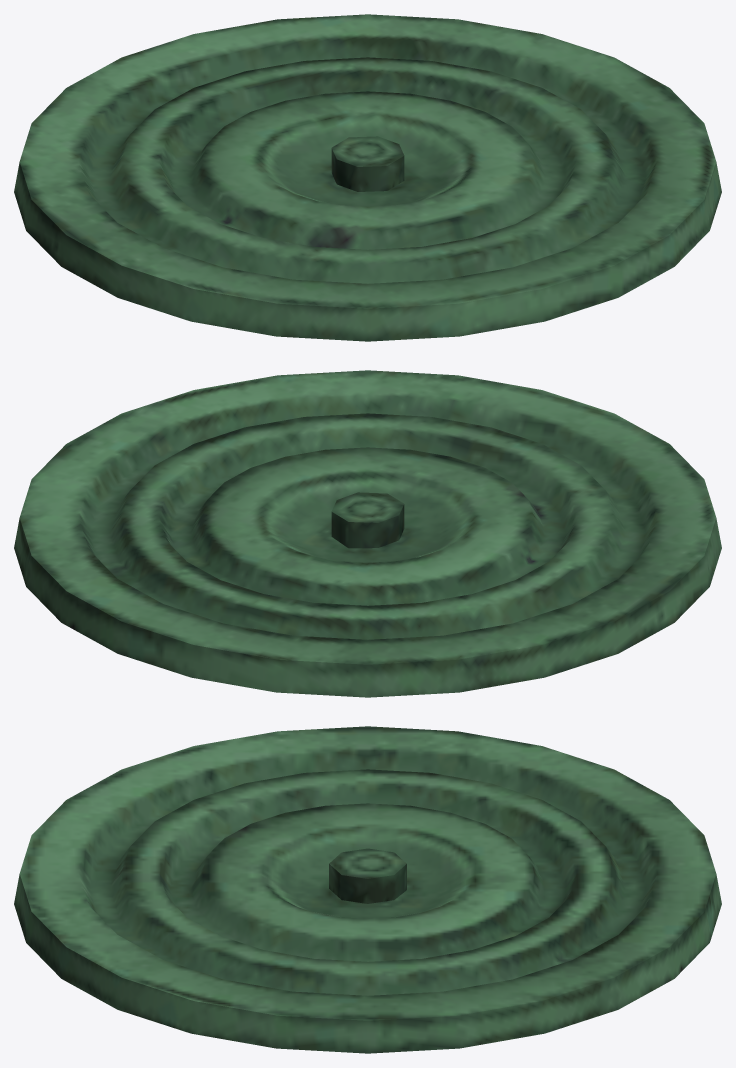
The model's file is trashBinLid01_green.FBX.
3 views of the same model, one above another, from view 1: azimuth 30°, elevation 25°; view 2: azimuth 150°, elevation 25°; view 3: azimuth 270°, elevation 25° (orthographic).
Parts seen in each view (by area): view 1: SM_TrashBinLid; view 2: SM_TrashBinLid; view 3: SM_TrashBinLid.
Boxes of the visible parts, x1,y1,x2,y2 form: SM_TrashBinLid: (14,14,721,341); SM_TrashBinLid: (14,370,721,697); SM_TrashBinLid: (14,726,721,1053).
Bounding box in the file's own units: 64.43 × 4.05 × 64.43.
Materials: 1 (1 with a texture image).
